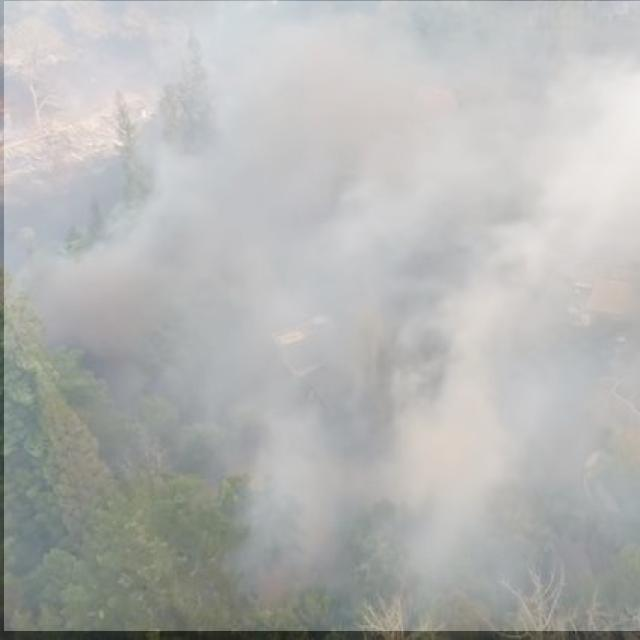Smoke: (4, 1, 640, 632)
